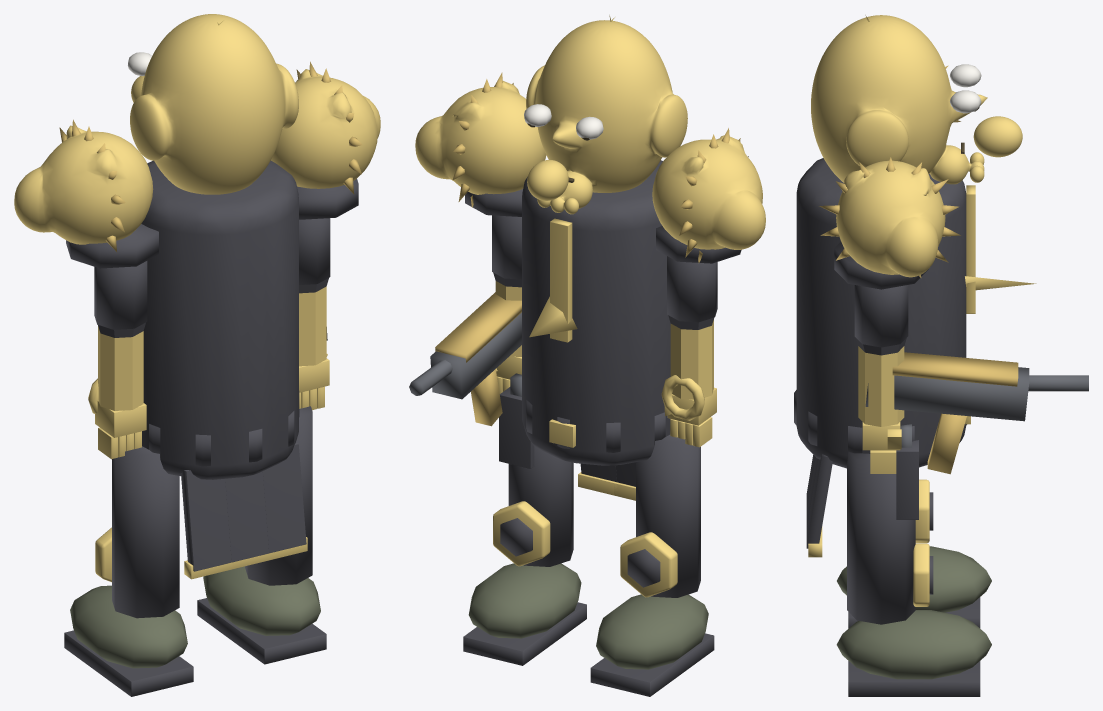
File: character.glb
3 views of the same model, side by side, from view 1: azimuth 30°, elevation 25°; view 2: azimuth 150°, elevation 25°; view 3: azimuth 270°, elevation 25° (orthographic). The views are drawn at different scales.
Parts seen in each view (by area): view 1: TorsoSuit, HeadOrganic, LegL_mesh, PauldronL, LegR_mesh, PauldronR, ElbowL_mesh, TassetStrip-0.09, ElbowR_mesh, TassetStrip0.09, SleeveL, TassetStrip0.0 (+1 smaller); view 2: TorsoSuit, HeadOrganic, LegL_mesh, LegR_mesh, PauldronL, PauldronR, ElbowR_mesh, ElbowL_mesh, SleeveL, SleeveR, TassetTip0.09; view 3: TorsoSuit, LegR_mesh, HeadOrganic, ElbowR_mesh, PauldronR, LegL_mesh, SleeveR, TassetStrip0.09, EyeWhiteL, EyeWhiteR.
Part boxes in pixels (left/top/right/bottom): TorsoSuit: left=141, top=160, right=299, bottom=479; HeadOrganic: left=130, top=14, right=298, bottom=194; LegL_mesh: left=64, top=446, right=193, bottom=696; PauldronL: left=14, top=119, right=158, bottom=268; LegR_mesh: left=197, top=406, right=326, bottom=664; PauldronR: left=271, top=61, right=380, bottom=219; ElbowL_mesh: left=88, top=322, right=146, bottom=459; TassetStrip-0.09: left=181, top=470, right=231, bottom=571; ElbowR_mesh: left=299, top=278, right=329, bottom=410; TassetStrip0.09: left=262, top=443, right=306, bottom=553; SleeveL: left=94, top=261, right=147, bottom=329; TassetStrip0.0: left=225, top=471, right=268, bottom=562; TorsoSuit: left=499, top=160, right=670, bottom=468; HeadOrganic: left=526, top=20, right=687, bottom=214; LegL_mesh: left=590, top=435, right=714, bottom=696; LegR_mesh: left=463, top=446, right=586, bottom=665; PauldronL: left=652, top=128, right=765, bottom=263; PauldronR: left=415, top=72, right=546, bottom=216; ElbowR_mesh: left=409, top=272, right=521, bottom=426; ElbowL_mesh: left=661, top=315, right=716, bottom=447; SleeveL: left=667, top=256, right=717, bottom=322; SleeveR: left=492, top=215, right=521, bottom=279; TassetTip0.09: left=578, top=472, right=618, bottom=495; TorsoSuit: left=794, top=158, right=1036, bottom=519; LegR_mesh: left=836, top=451, right=991, bottom=696; HeadOrganic: left=811, top=15, right=1022, bottom=184; ElbowR_mesh: left=856, top=338, right=1088, bottom=474; PauldronR: left=819, top=157, right=960, bottom=289; LegL_mesh: left=837, top=479, right=991, bottom=628; SleeveR: left=854, top=285, right=908, bottom=347; TassetStrip0.09: left=806, top=454, right=832, bottom=548; EyeWhiteL: left=950, top=64, right=981, bottom=87; EyeWhiteR: left=950, top=90, right=981, bottom=113.
Bounding box in the file's own units: 0.8668 × 1.48 × 0.625.
